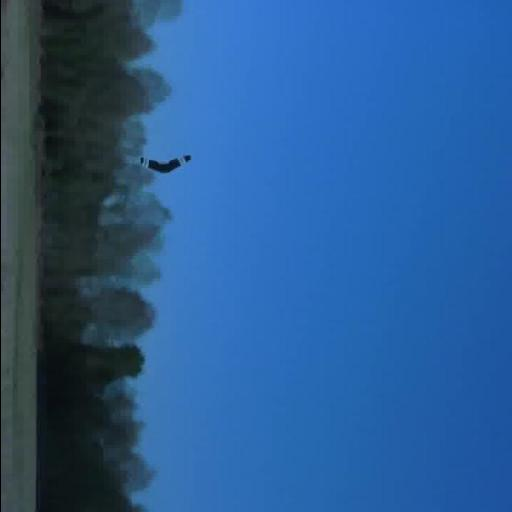uav: (130, 152, 196, 178)
